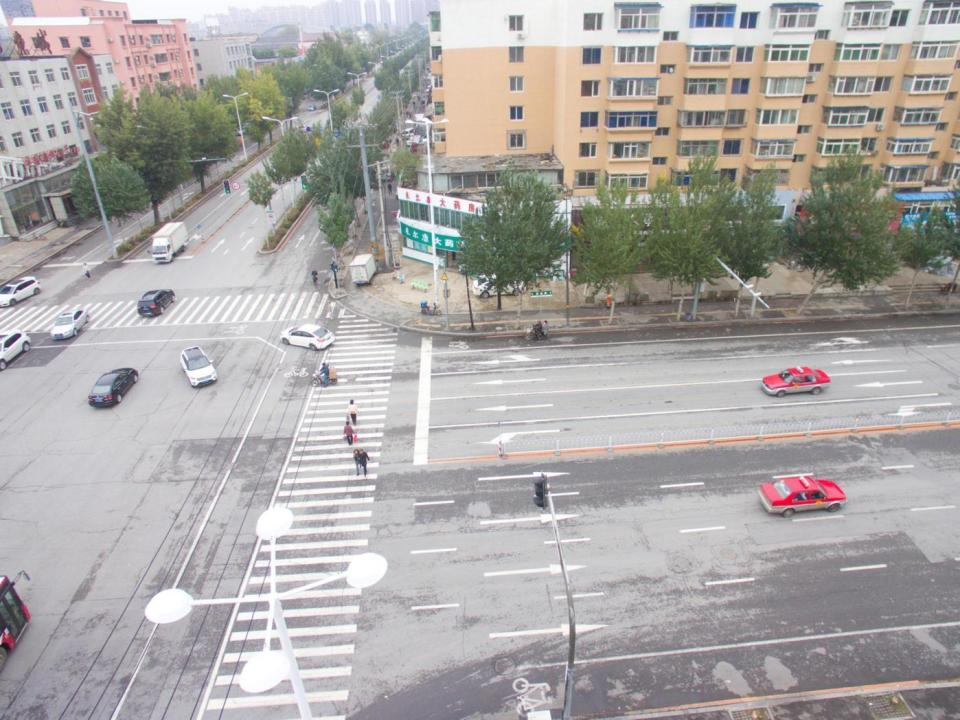car: (759, 475, 847, 516), (759, 366, 829, 399), (88, 368, 136, 408), (178, 346, 220, 386), (280, 323, 333, 352), (0, 277, 46, 306), (137, 288, 176, 320), (471, 276, 527, 298), (0, 332, 32, 367), (54, 311, 88, 340), (234, 127, 247, 138), (300, 123, 308, 132), (308, 104, 316, 110)
truck: (148, 223, 188, 265)
van: (400, 129, 414, 138)
